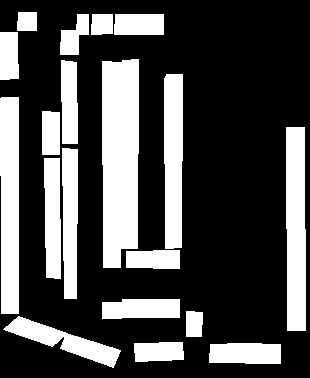parkingspot: (102, 61, 121, 267), (0, 97, 18, 313), (286, 127, 305, 330), (121, 59, 138, 248), (164, 74, 182, 248), (62, 148, 77, 298), (60, 333, 120, 367), (3, 316, 67, 346), (44, 158, 60, 278), (209, 343, 280, 363), (61, 60, 77, 143), (122, 299, 179, 317), (114, 14, 163, 34), (126, 250, 179, 268), (134, 342, 183, 361), (0, 32, 18, 79), (42, 111, 59, 154), (60, 30, 78, 54), (91, 14, 112, 34), (186, 311, 202, 336), (17, 12, 36, 30), (102, 302, 121, 318), (76, 14, 88, 34)
